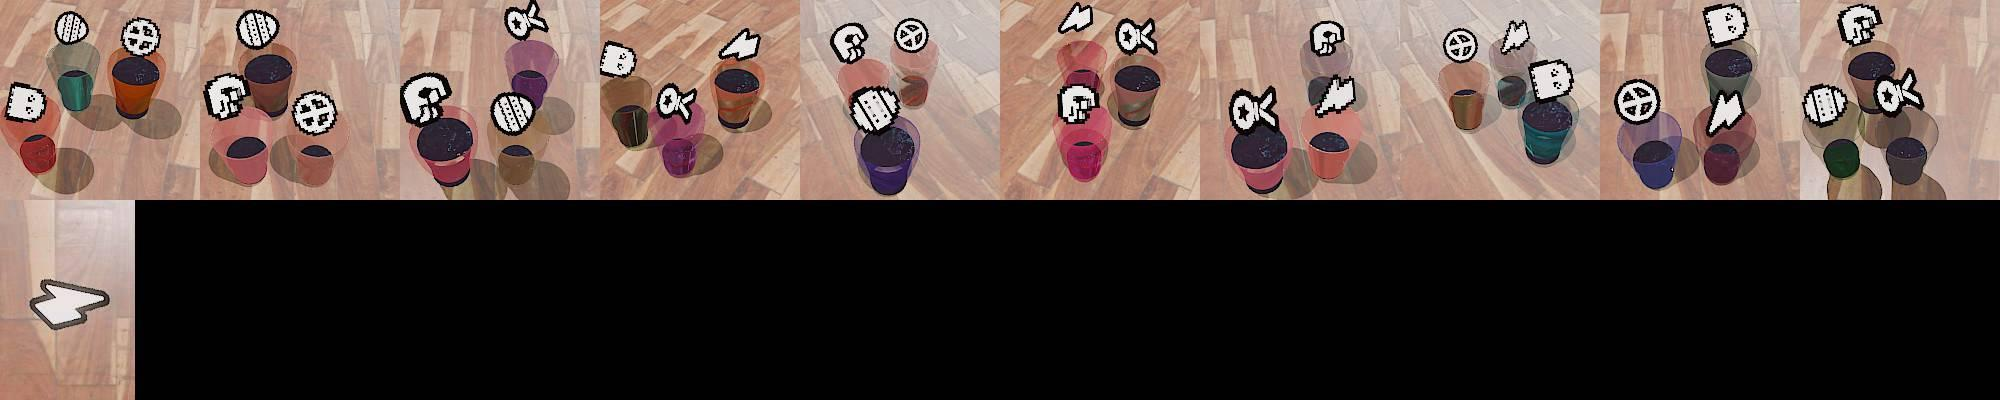icon: (29, 278, 115, 330), (399, 70, 453, 129), (847, 85, 902, 134), (1874, 68, 1925, 116), (291, 88, 339, 136), (1230, 85, 1277, 135), (203, 73, 249, 121), (490, 90, 536, 136), (1528, 57, 1574, 102), (1703, 3, 1749, 47), (1615, 78, 1659, 124), (1801, 83, 1848, 126), (1312, 73, 1357, 116), (504, 0, 550, 42), (656, 82, 699, 125), (1837, 4, 1881, 46), (4, 82, 47, 124), (828, 22, 870, 65), (1116, 15, 1159, 56), (1057, 83, 1099, 124), (236, 10, 279, 50), (1707, 89, 1745, 134), (120, 17, 161, 57), (717, 27, 761, 62), (598, 41, 638, 79), (1309, 20, 1346, 59), (894, 18, 930, 55), (1441, 27, 1478, 62), (1496, 18, 1531, 55), (1057, 1, 1096, 34), (54, 11, 89, 46)
